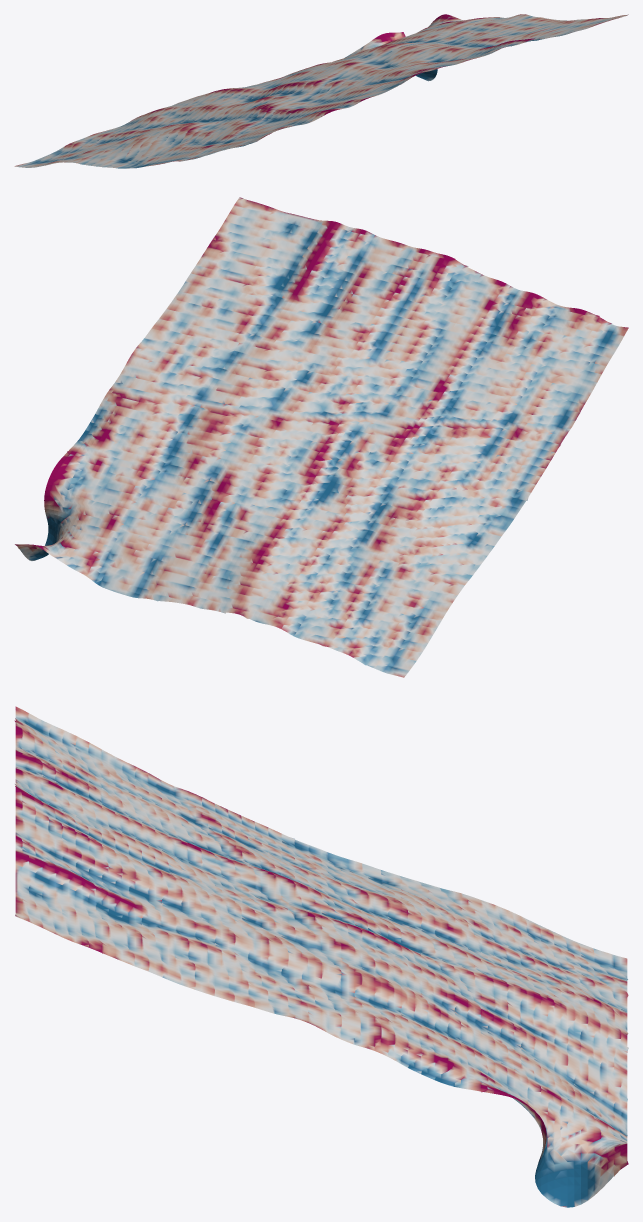
The model's file is crop1123_curvature.glb.
3 renders of one model, top to bottom at view 1: azimuth 30°, elevation 25°; view 2: azimuth 150°, elevation 25°; view 3: azimuth 270°, elevation 25°, orthographic. The views are drawn at different scales.
Parts seen in each view (by area): view 1: world; view 2: world; view 3: world.
Boxes of the visible parts, box(x1,y1,x2,y2) form: world: box(14, 14, 628, 168); world: box(15, 197, 628, 677); world: box(14, 706, 628, 1207).
Bounding box in the file's own units: 1480 × 798 × 1480.
